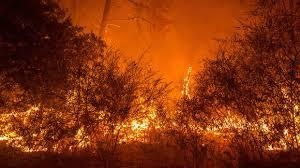fire: (177, 63, 195, 99)
